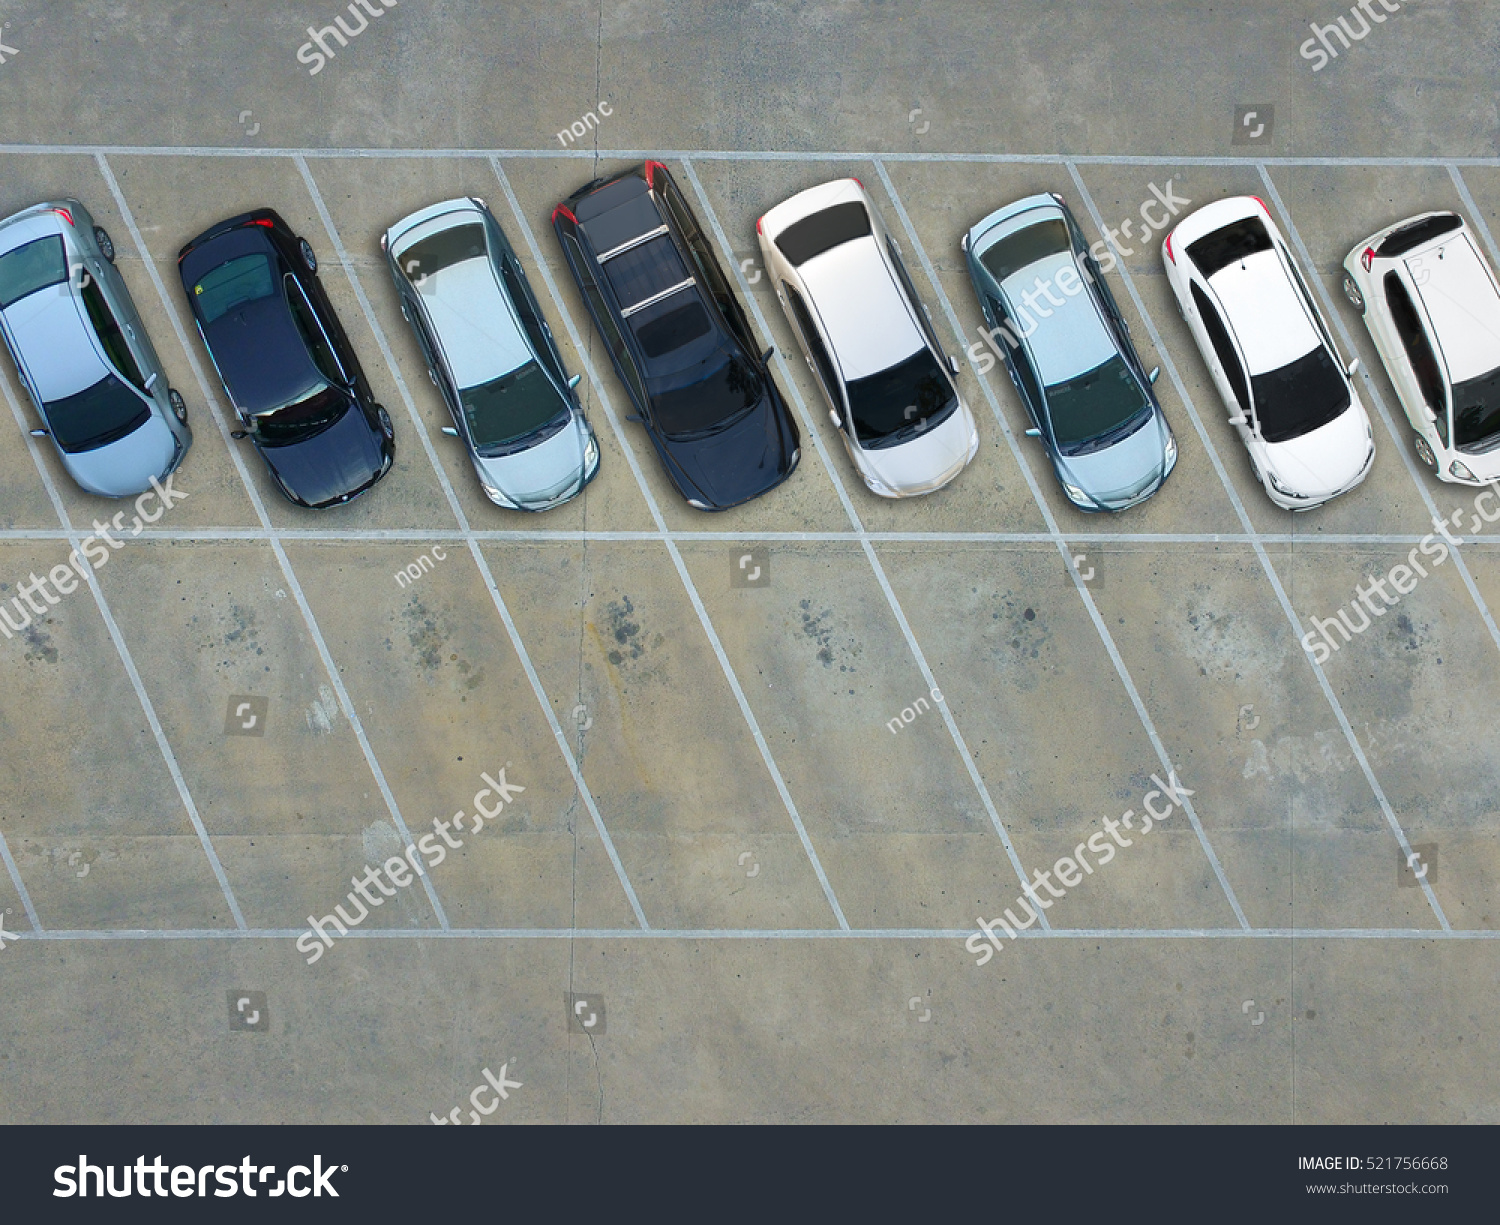Car: (537, 156, 811, 520), (744, 169, 987, 513), (951, 183, 1194, 518), (370, 189, 607, 522), (1150, 189, 1383, 523), (172, 204, 402, 518), (1, 196, 196, 503), (1331, 196, 1500, 495)
LaneMark: (1, 146, 1500, 174), (6, 926, 1500, 943), (4, 528, 1500, 543), (529, 670, 617, 839), (164, 763, 248, 928), (1316, 669, 1397, 815), (980, 785, 1050, 933), (385, 788, 458, 926), (1126, 670, 1194, 813), (781, 798, 850, 926), (465, 540, 534, 665), (113, 631, 176, 770), (277, 537, 335, 685), (1056, 548, 1126, 667), (723, 655, 781, 789), (865, 543, 928, 665), (924, 667, 985, 785), (1194, 815, 1256, 930), (407, 393, 461, 523), (676, 545, 731, 667), (1261, 543, 1316, 663), (596, 832, 657, 930), (335, 675, 387, 788), (306, 163, 354, 282), (1444, 543, 1500, 636), (69, 541, 117, 646), (1397, 822, 1443, 926), (102, 160, 150, 250), (193, 363, 235, 464), (146, 250, 181, 358), (361, 295, 402, 385), (237, 456, 267, 532)
